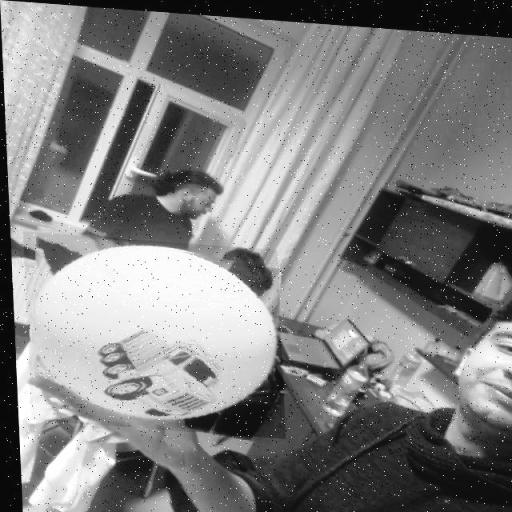balloon: (36, 234, 280, 420)
